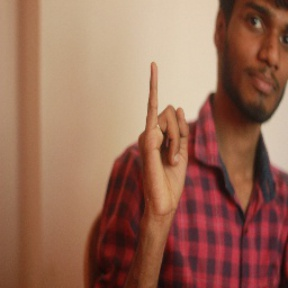I: (133, 60, 193, 215)
